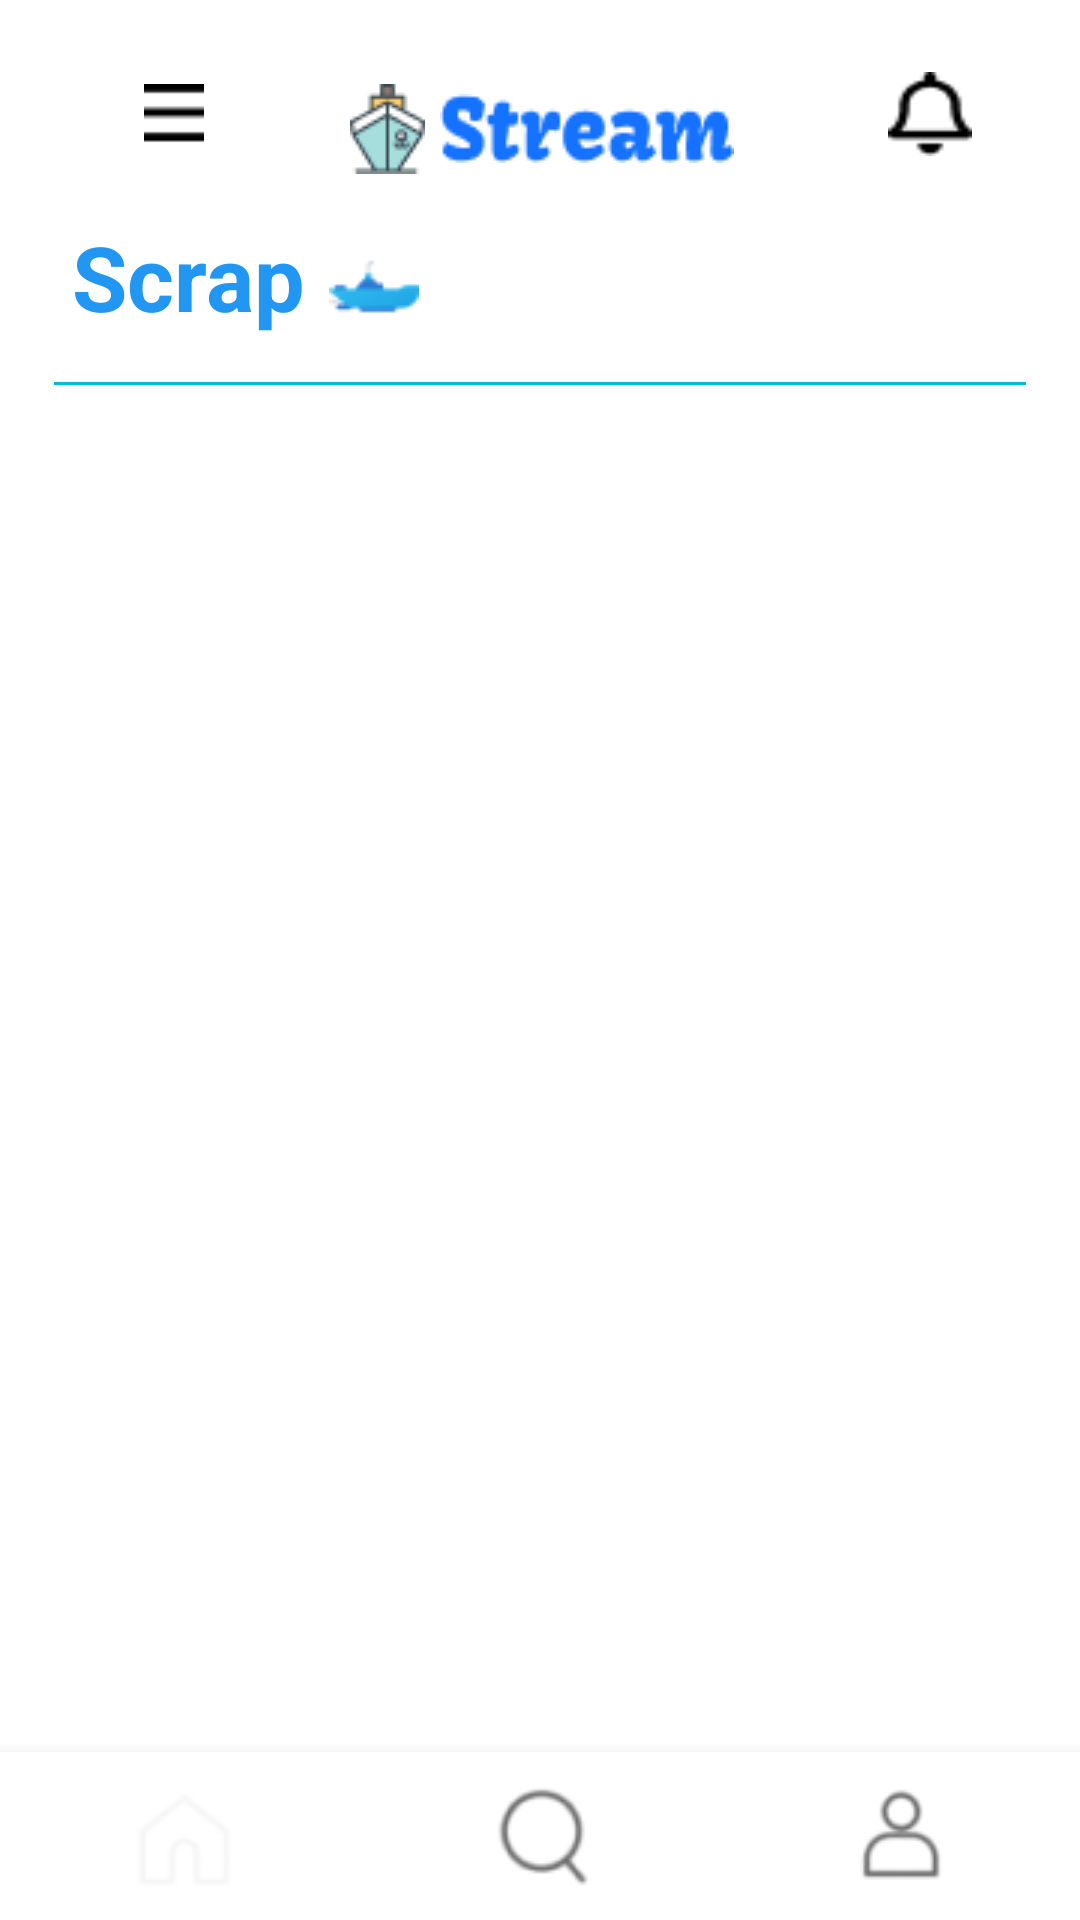

Icons on this 1080×1920 Android screen, each with the point to tap as (x=x, y=y):
iconbell: (x=930, y=114)
iconcruiseship: (x=387, y=129)
iconsmallship: (x=374, y=287)
